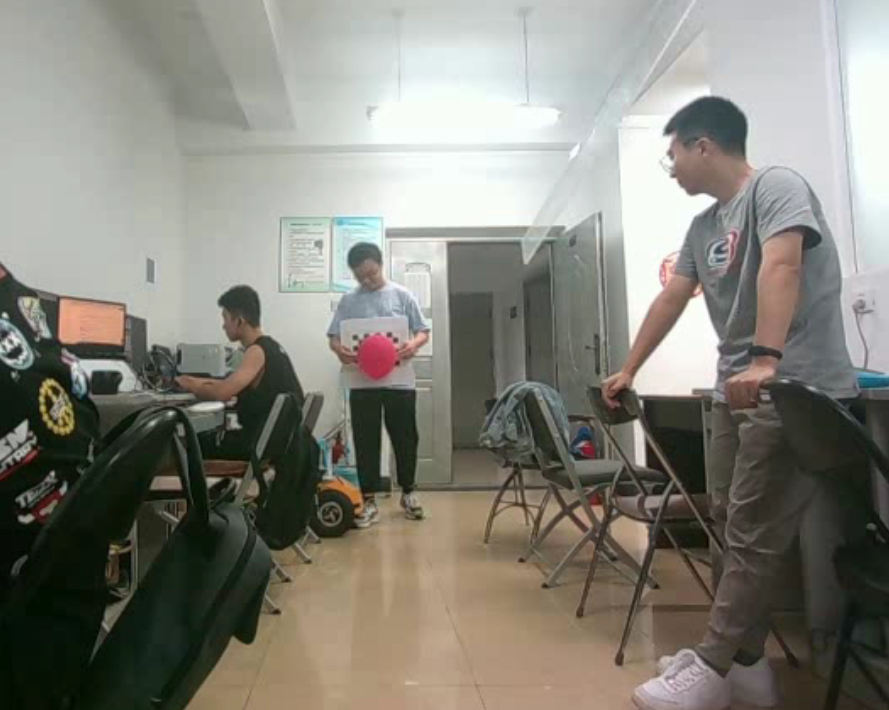balloon: (357, 335, 396, 383)
